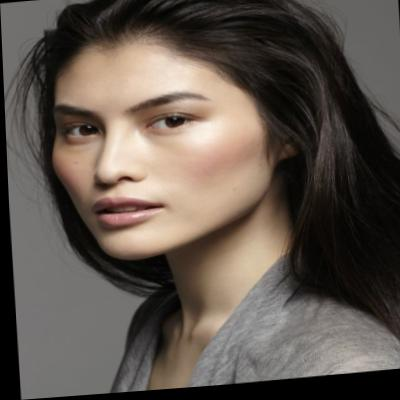netural: (45, 39, 276, 264)
